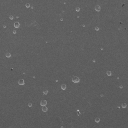corrosion: (17, 77, 26, 87), (71, 75, 81, 84), (4, 51, 12, 60), (39, 98, 48, 106), (94, 115, 102, 124), (93, 4, 102, 12), (120, 101, 128, 110), (104, 68, 112, 76), (12, 20, 20, 28), (60, 83, 67, 91), (26, 100, 33, 108), (40, 106, 48, 113), (24, 2, 31, 9), (93, 24, 99, 32), (75, 4, 81, 12), (76, 109, 80, 116)
